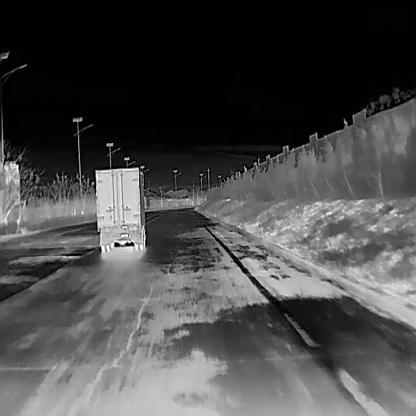car: (94, 166, 149, 251)
